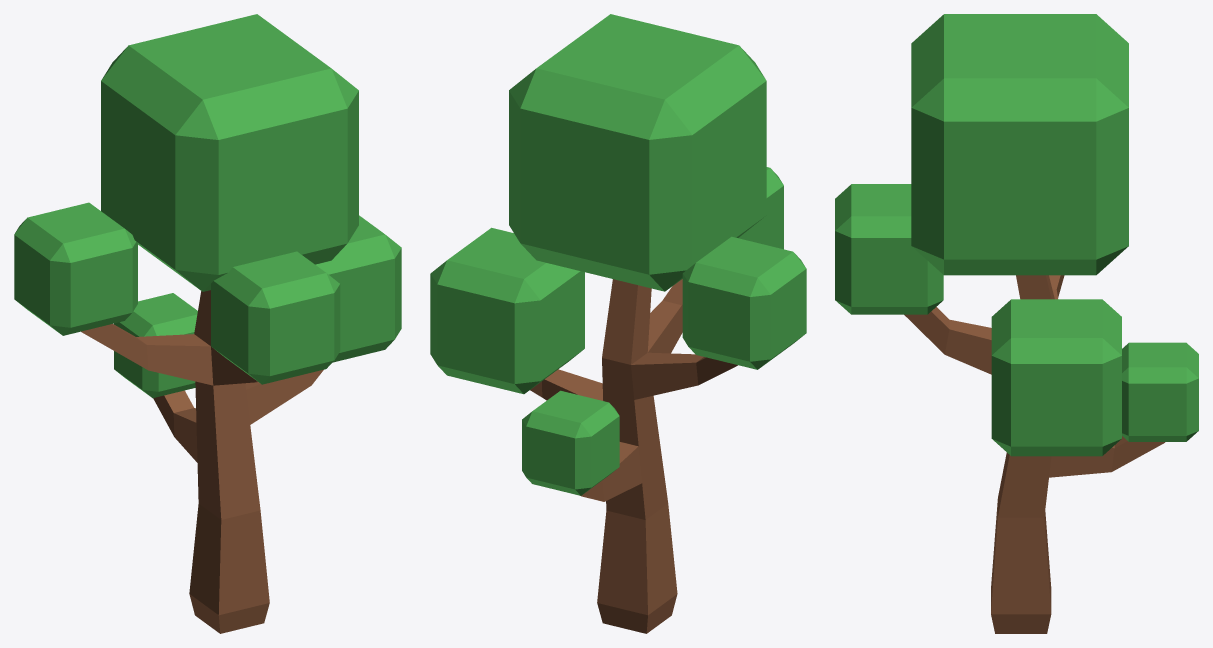
Rendered from tree_2.fbx.
The picture shows the model from 3 angles, left to right: view 1: azimuth 30°, elevation 25°; view 2: azimuth 150°, elevation 25°; view 3: azimuth 270°, elevation 25°; orthographic projection. The views are drawn at different scales.
Visible parts, largest first — view 1: tree_2; view 2: tree_2; view 3: tree_2.
Part boxes in pixels (bbox=[...]): tree_2: bbox=[14, 14, 401, 633]; tree_2: bbox=[430, 14, 806, 633]; tree_2: bbox=[835, 14, 1198, 633].
Size of the model in its own units: 0.8471 by 1.33 by 0.7616.
1 material, 1 textured.
